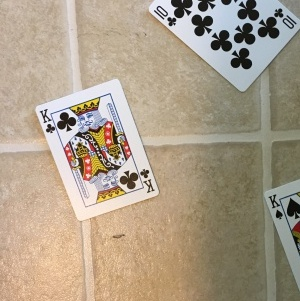card: (35, 79, 160, 222)
